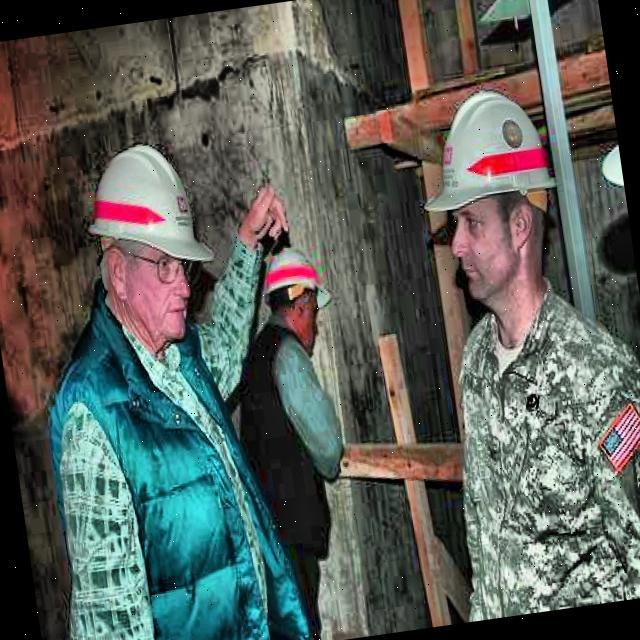helmet: (400, 52, 592, 340), (60, 123, 229, 364), (254, 249, 334, 344)
